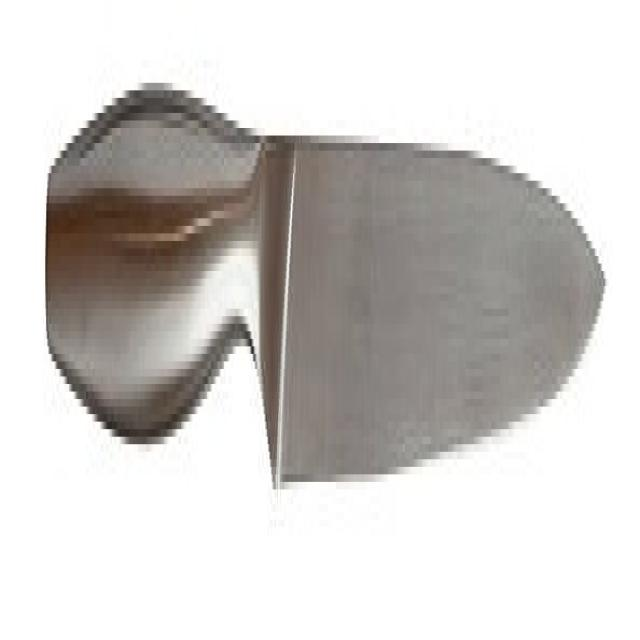knife: (40, 18, 612, 583)
